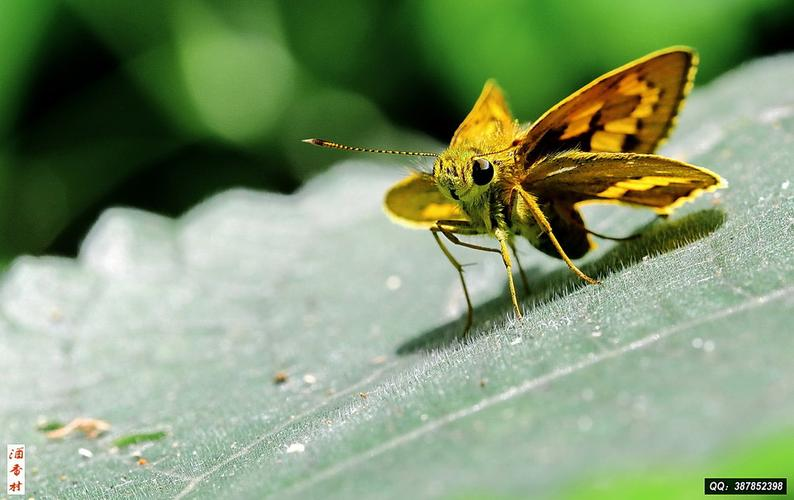Hesperiidae: (298, 38, 728, 340)
